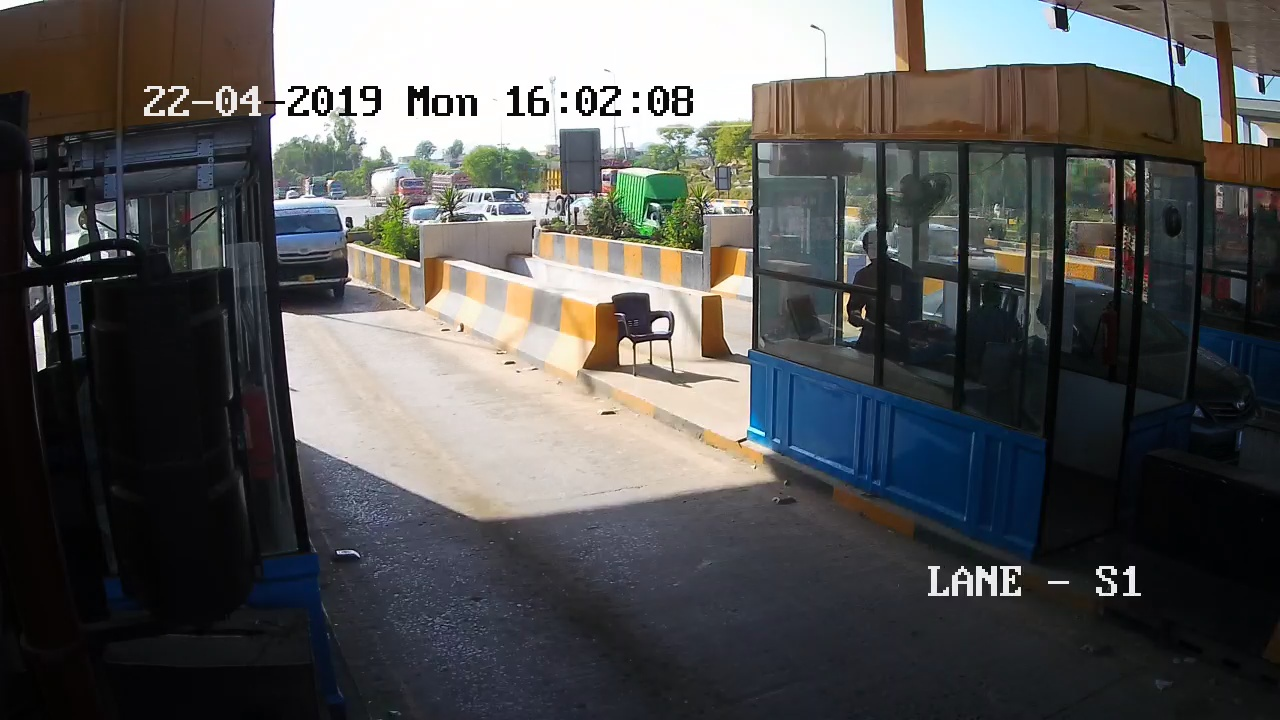car: (275, 174, 364, 317)
